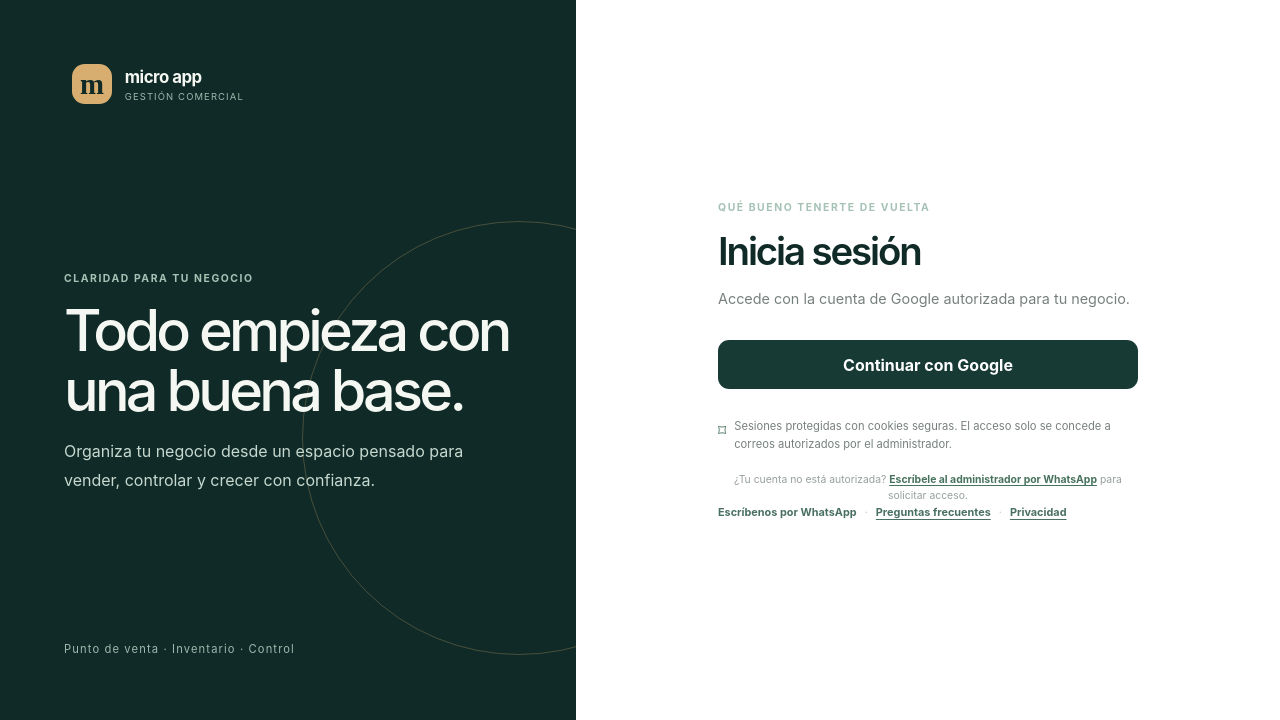
Test: Micro app authentication flow › opens the FAQ and privacy help modals from the login screen and closes them
Click the button "Preguntas frecuentes".
click(933, 512)  # box [876,505,991,519]
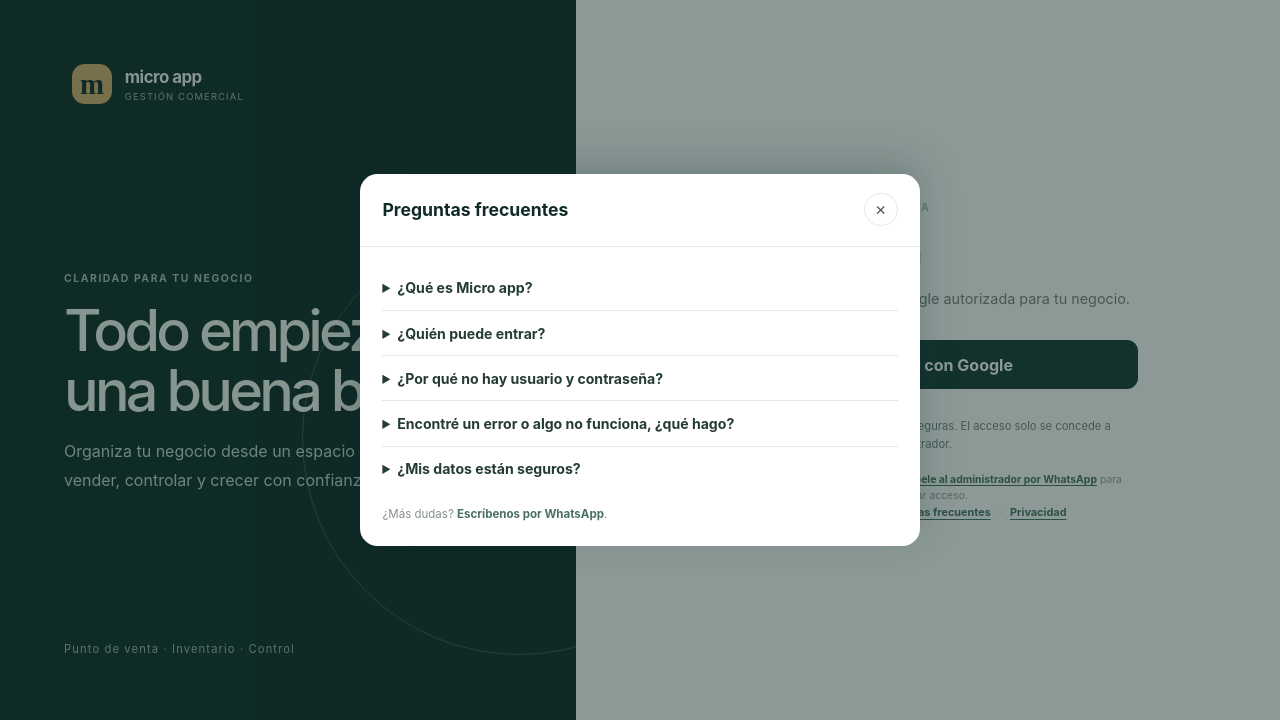
Expected: the dialog is shown, [360,174,920,546]
Expected: the dialog shows "¿Qué es Micro app?", [397,279,533,296]
Click the button with class "help-modal-close".
click(881, 210)  # box [864,193,898,226]
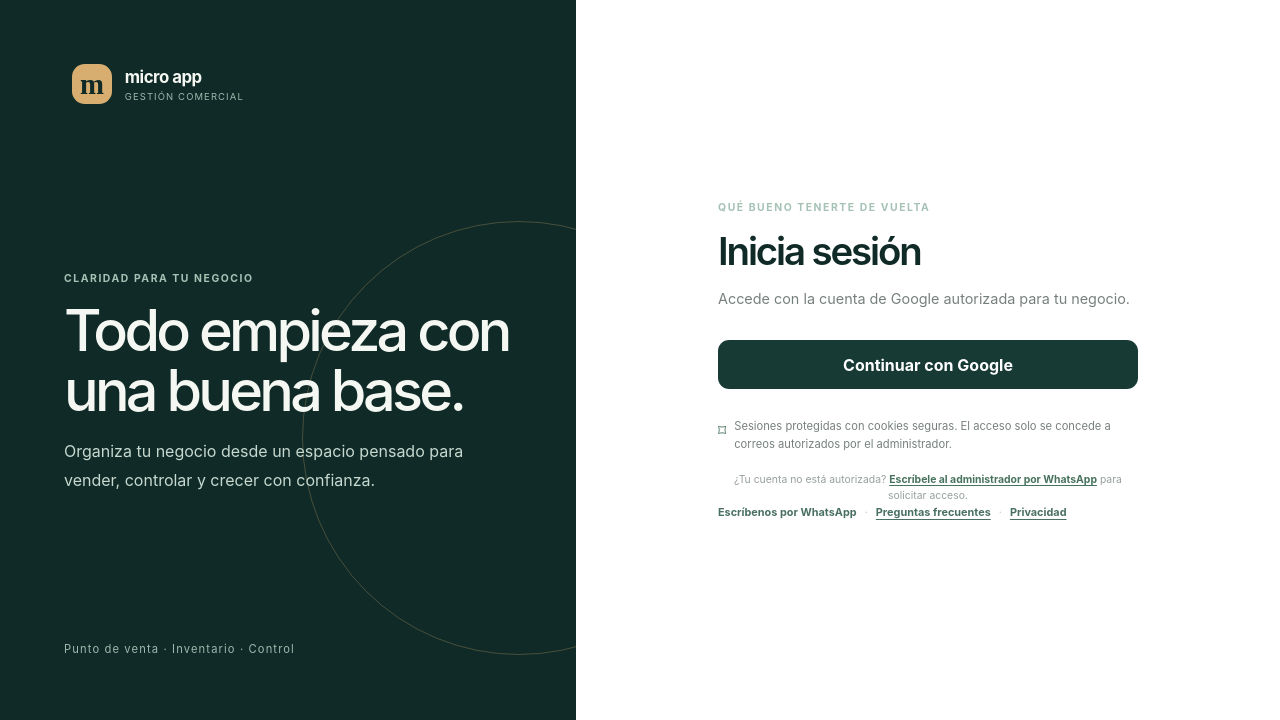
Expected: the dialog is gone
Click the button "Privacidad".
click(1038, 512)  # box [1010,505,1066,519]
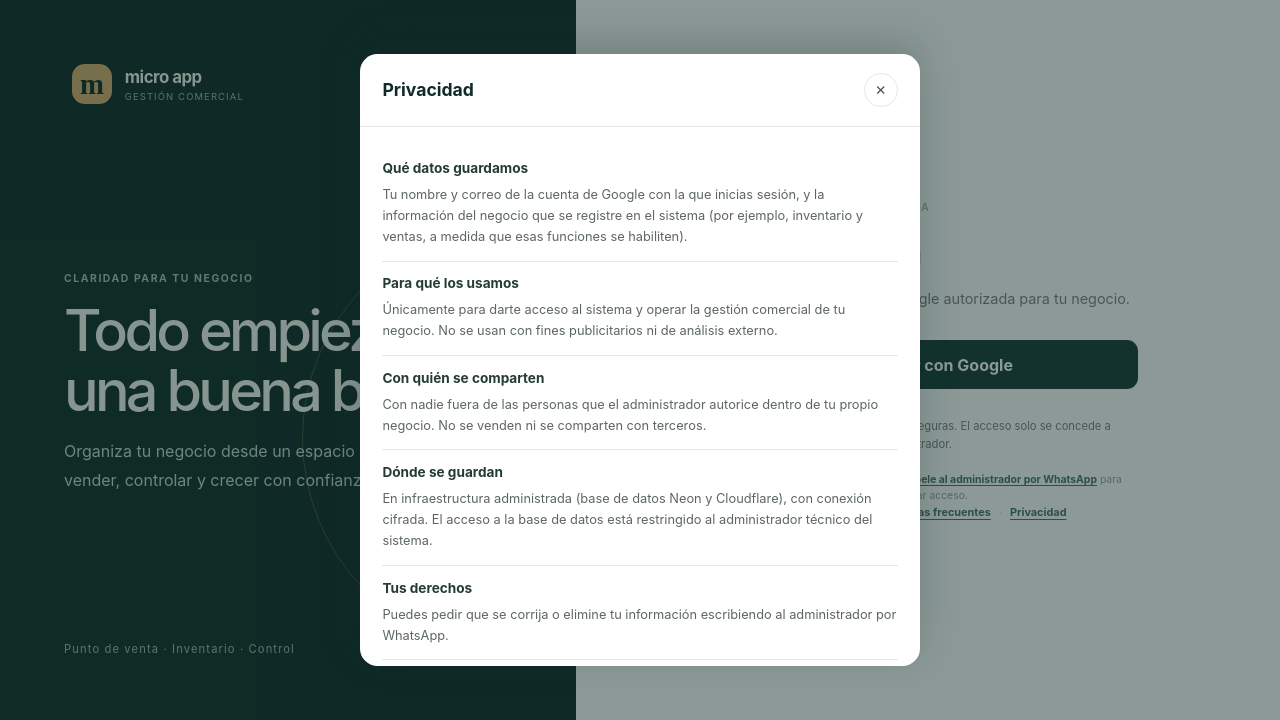
Expected: the dialog shows "Qué datos guardamos", [382,160,528,176]
